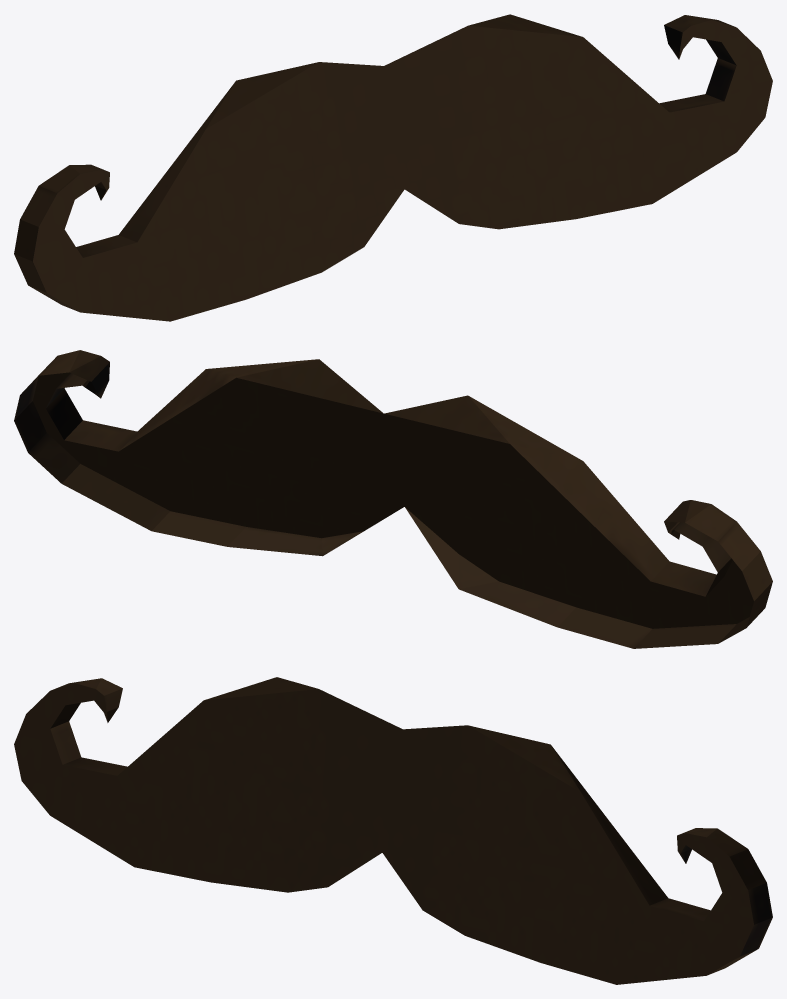
File: Mustache2.FBX
The picture shows the model from 3 angles, top to bottom: view 1: azimuth 30°, elevation 25°; view 2: azimuth 150°, elevation 25°; view 3: azimuth 330°, elevation 25°; orthographic projection.
Visible parts, largest first — view 1: Mustache2; view 2: Mustache2; view 3: Mustache2.
Part boxes in pixels (x1,y1,x2,y2): Mustache2: (14,14,772,321); Mustache2: (14,350,772,648); Mustache2: (14,677,772,984).
Size of the model in its own units: 146 by 13.18 by 40.07.
1 material, 1 textured.
